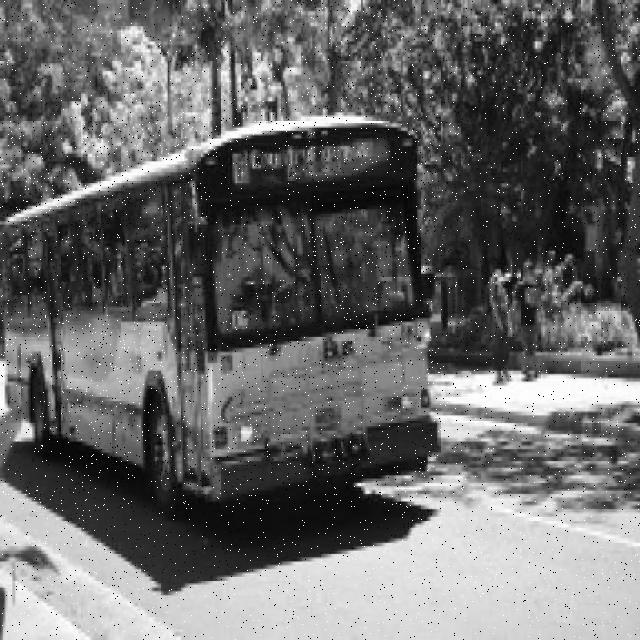Bus: (0, 116, 443, 512)
